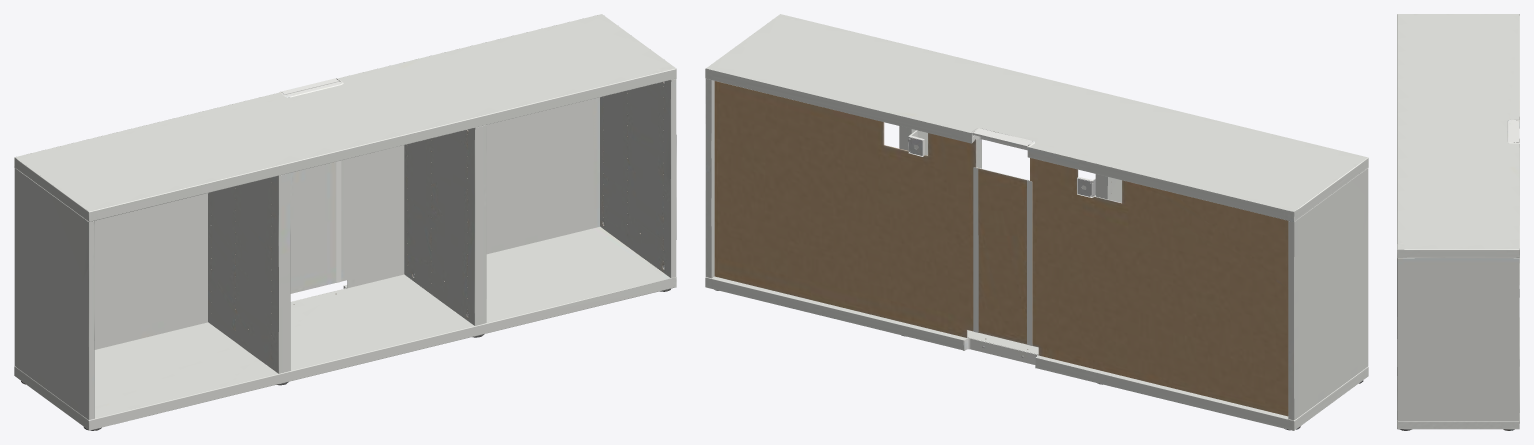
File: 08 - BESTÅ TV bench - white 180x40x64 cm.glb
3 views of the same model, side by side, from view 1: azimuth 30°, elevation 25°; view 2: azimuth 150°, elevation 25°; view 3: azimuth 270°, elevation 25° (orthographic). The views are drawn at different scales.
Visible parts, largest first — view 1: 70299879-BESTÃƒâ€¦001; view 2: 70299879-BESTÃƒâ€¦001; view 3: 70299879-BESTÃƒâ€¦001.
Part boxes in pixels (x1,y1,x2,y2): 70299879-BESTÃƒâ€¦001: (14,14,676,430); 70299879-BESTÃƒâ€¦001: (705,14,1368,430); 70299879-BESTÃƒâ€¦001: (1397,14,1519,430).
Size of the model in its own units: 1.8 by 0.6501 by 0.3964.
1 material, 1 textured.
